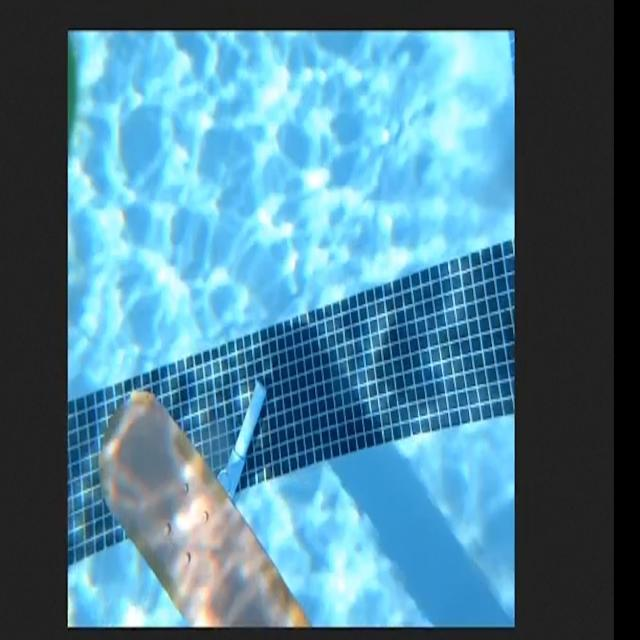Path: (98, 385, 314, 628)
